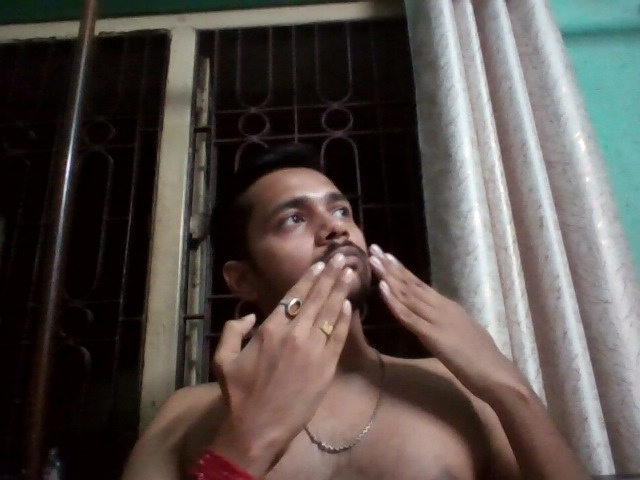Thankyou: (201, 187, 544, 431)
